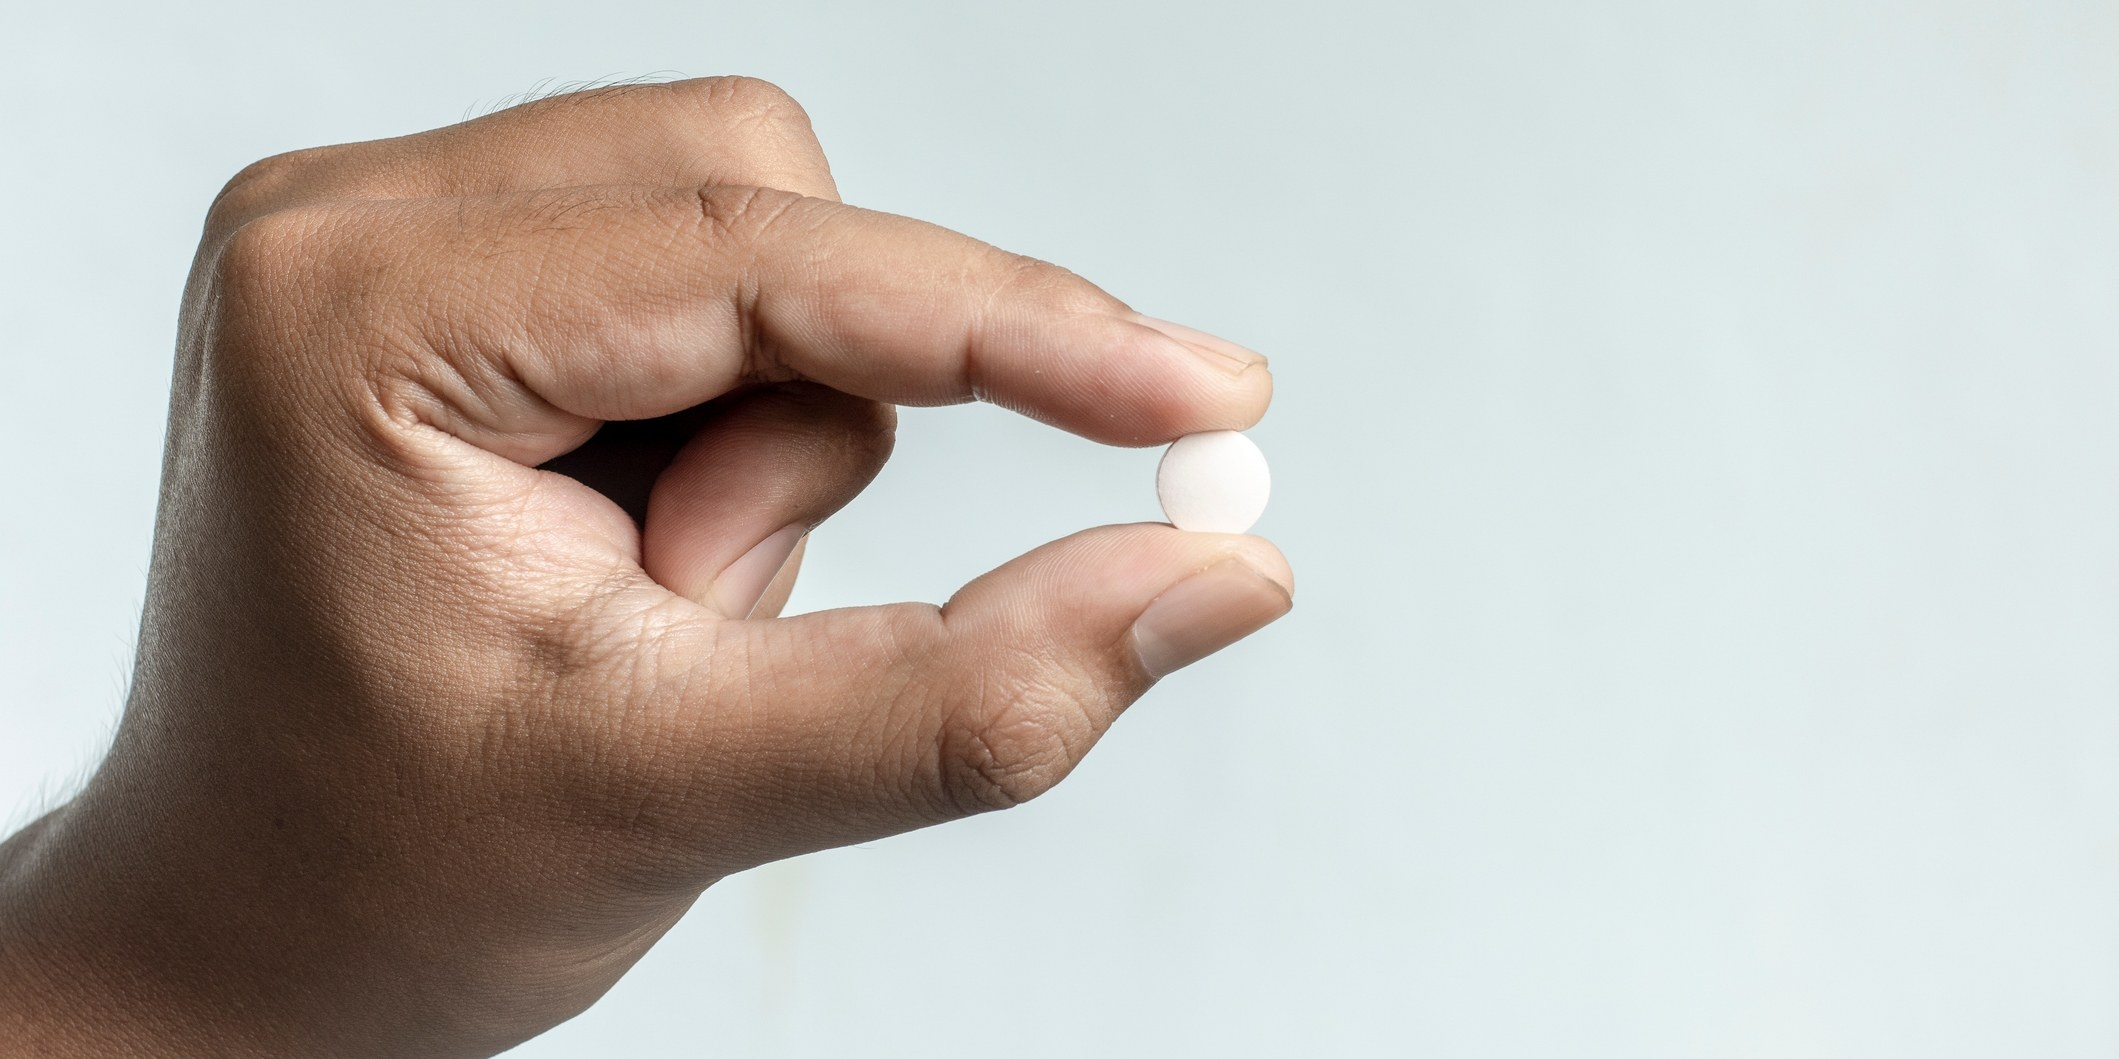pills: (1155, 420, 1264, 555)
